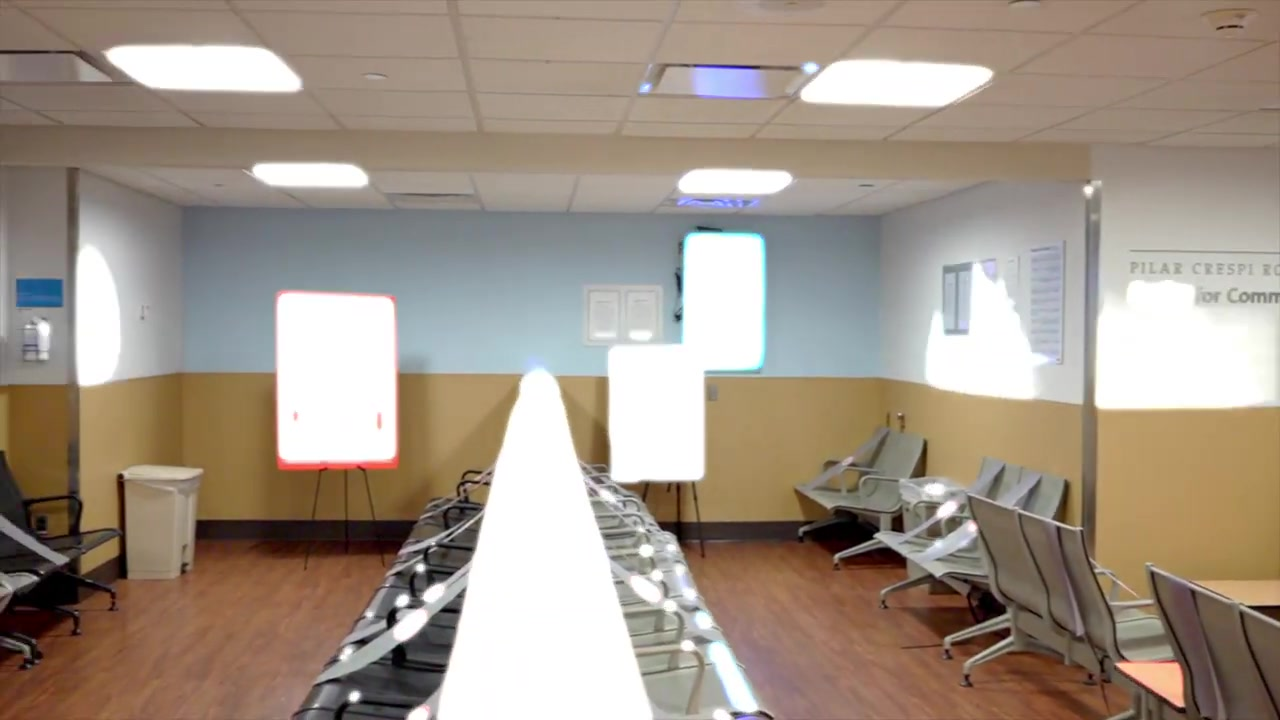chair: (940, 493, 1178, 689), (873, 457, 1068, 610), (1111, 561, 1280, 720), (1, 451, 122, 671), (793, 426, 927, 570)
dispenser: (23, 317, 53, 361)
table: (1112, 657, 1188, 720)
waste_bin: (118, 465, 204, 579), (898, 476, 969, 591)
